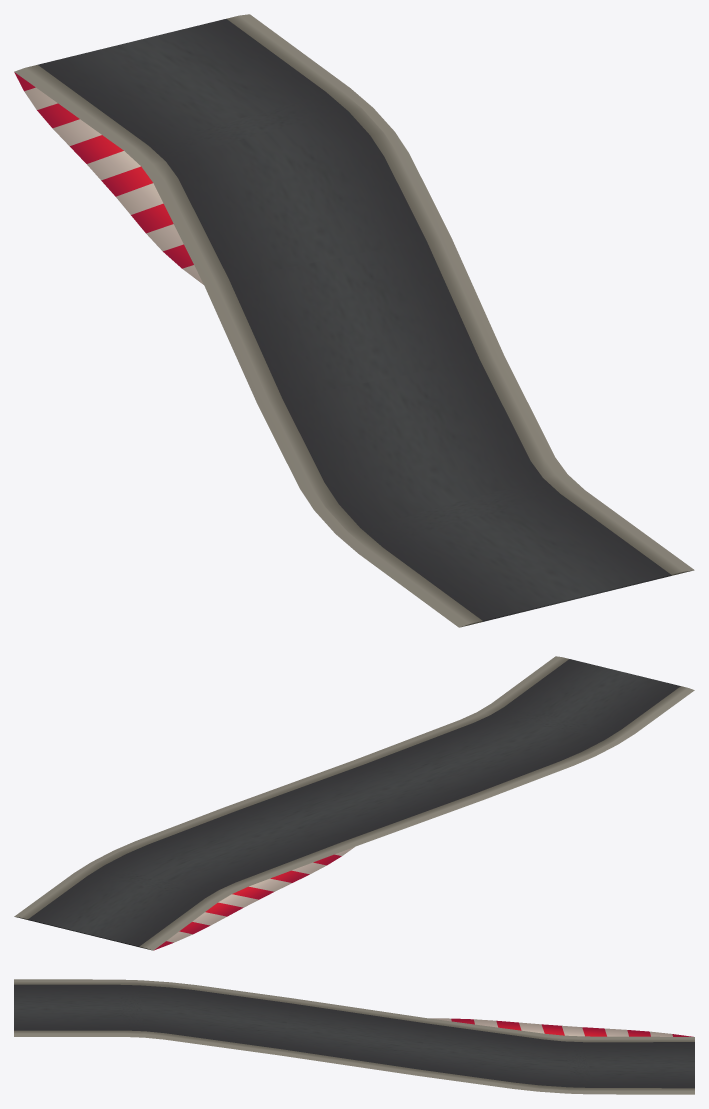
The model's file is Serpentine_1B_Long.fbx.
The picture shows the model from 3 angles, top to bottom: view 1: azimuth 30°, elevation 25°; view 2: azimuth 150°, elevation 25°; view 3: azimuth 270°, elevation 25°; orthographic projection. The views are drawn at different scales.
Visible parts, largest first — view 1: Serpentine_1B_Long; view 2: Serpentine_1B_Long; view 3: Serpentine_1B_Long.
Part boxes in pixels (box(x1,y1,x2,y2)): Serpentine_1B_Long: box(14, 14, 694, 627); Serpentine_1B_Long: box(14, 656, 694, 950); Serpentine_1B_Long: box(14, 979, 694, 1094).
Size of the model in its own units: 4000 by 10 by 10000.
